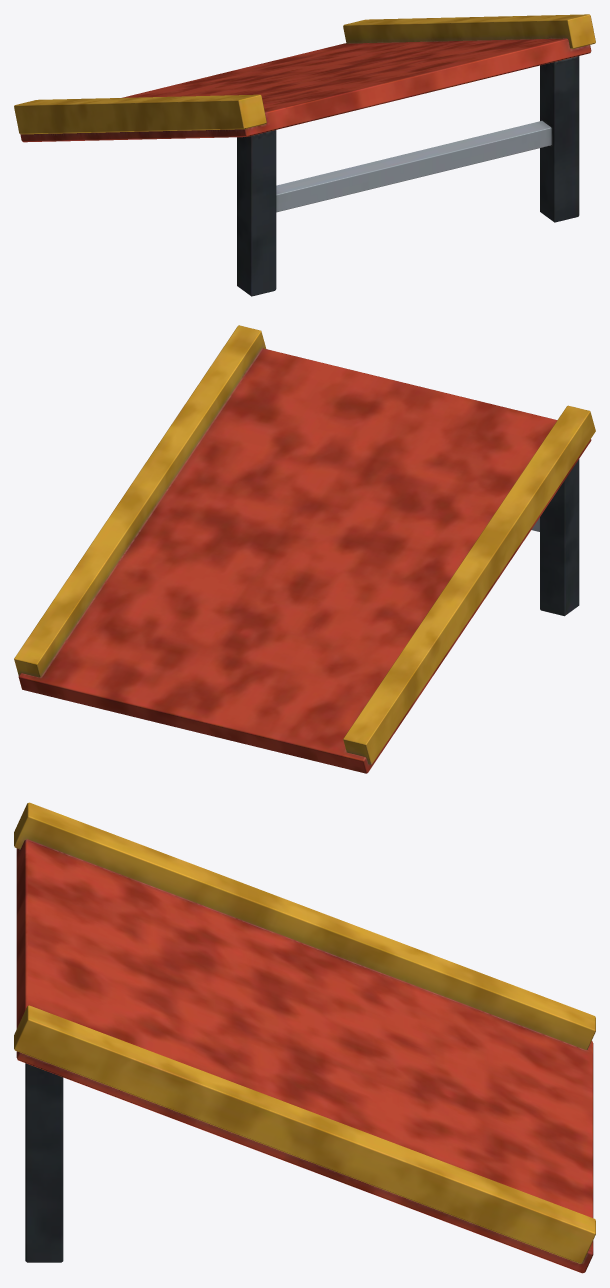
The model's file is jump_kicker.glb.
3 views of the same model, one above another, from view 1: azimuth 30°, elevation 25°; view 2: azimuth 150°, elevation 25°; view 3: azimuth 270°, elevation 25° (orthographic). The views are drawn at different scales.
Visible parts, largest first — view 1: JumpKicker; view 2: JumpKicker; view 3: JumpKicker.
Boxes of the visible parts, x1,y1,x2,y2 form: JumpKicker: (14, 14, 595, 296); JumpKicker: (14, 325, 595, 773); JumpKicker: (14, 802, 595, 1273).
Size of the model in its own units: 3.26 by 1.8 by 3.68.
1 material, 1 textured.
